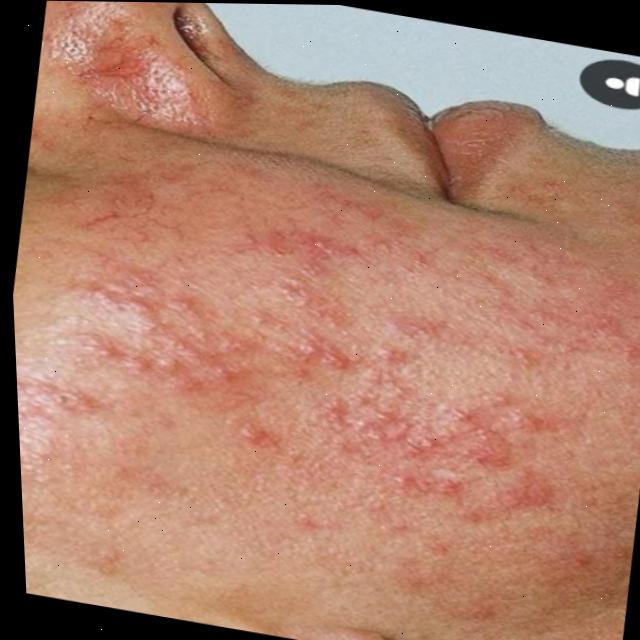Rosacea: (6, 125, 640, 579)
